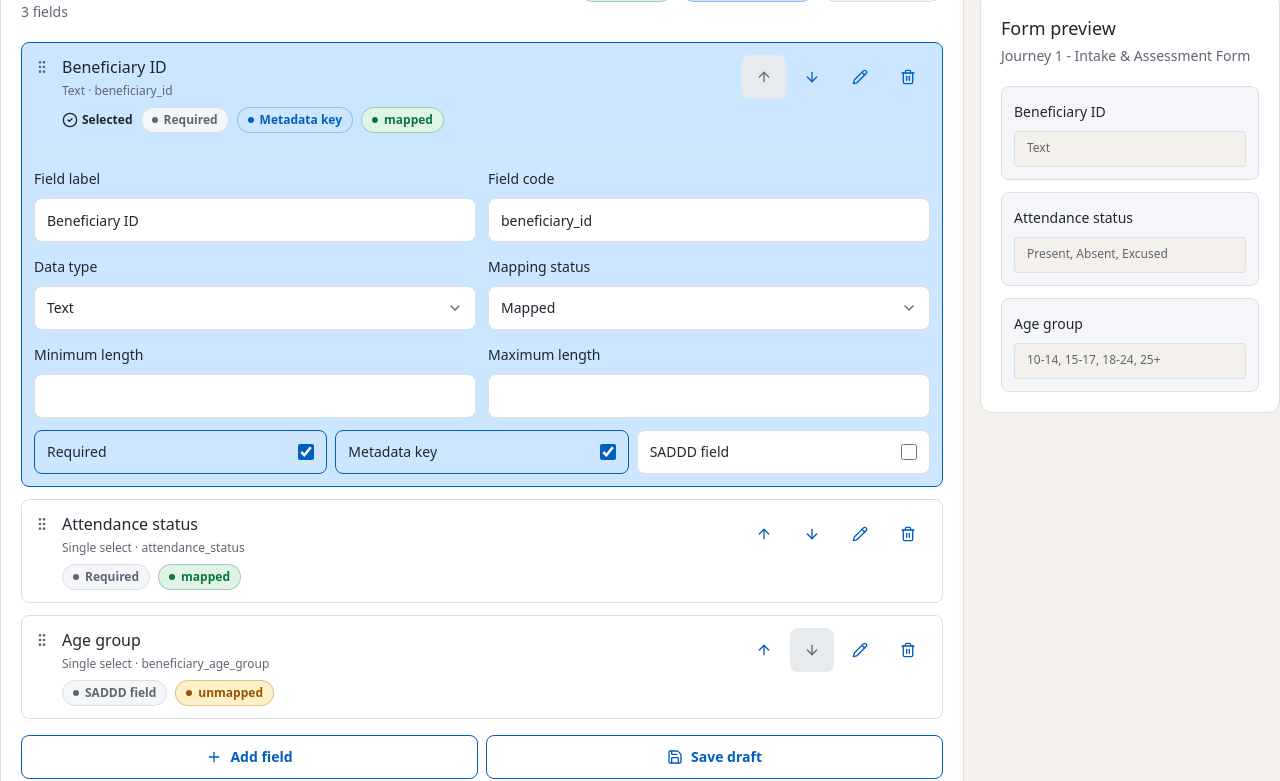
Test case: collection field selection › exposes and updates exactly one selected field with a visible cue
(page scrolled)
Expected: the button that starts with "Beneficiary ID" shows "Selected", [34, 55, 730, 133]
Click the button that starts with "Attendance status".
click(130, 524)  # box [34, 512, 730, 590]
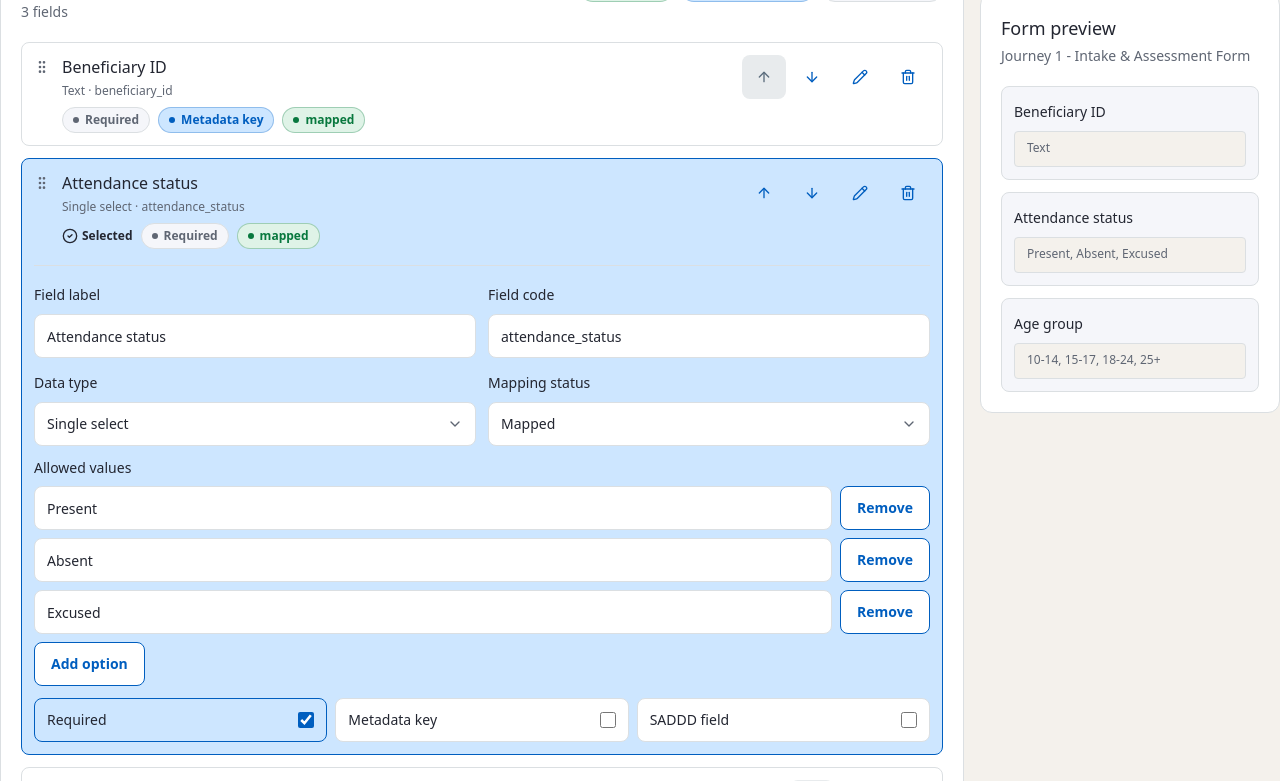
Now the button that starts with "Attendance status" shows "Selected", box [34, 171, 730, 249]
